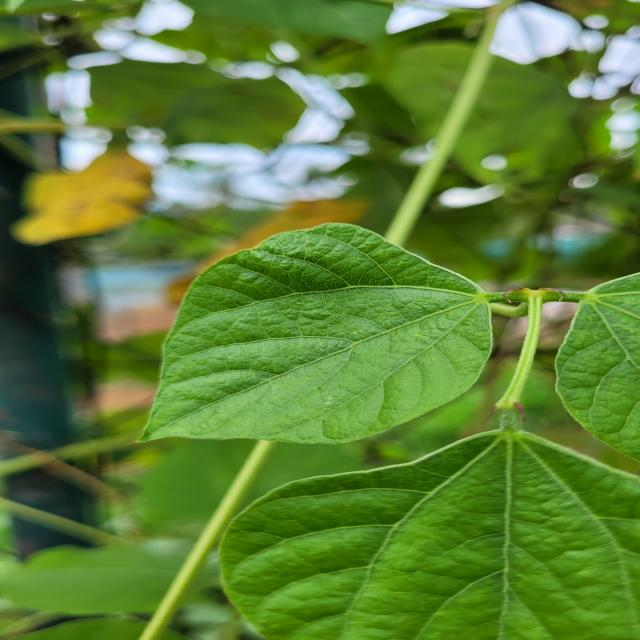Dolicos bean_healthy: (203, 425, 640, 640), (130, 226, 495, 449)
